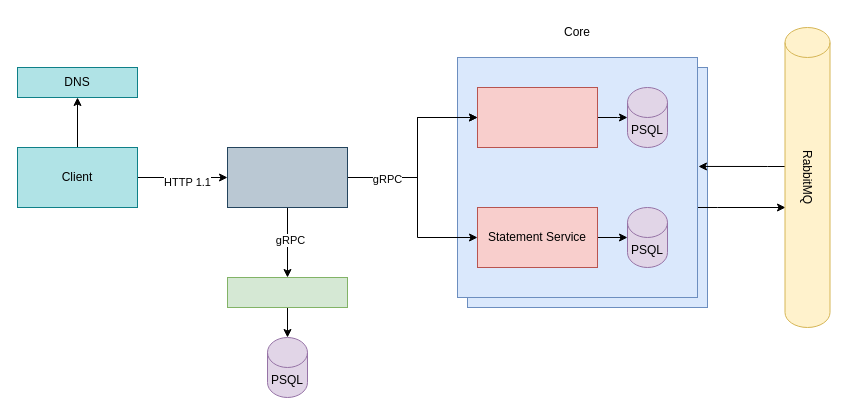
This 848x415 diagram has some shape labels left out. Here are the shapes that lost their labels. From the top down, the centre of each, then its label:
At point 537,117: "Wallet Service".
At point 287,177: "Api Gateway".
At point 287,292: "Auth Service".
